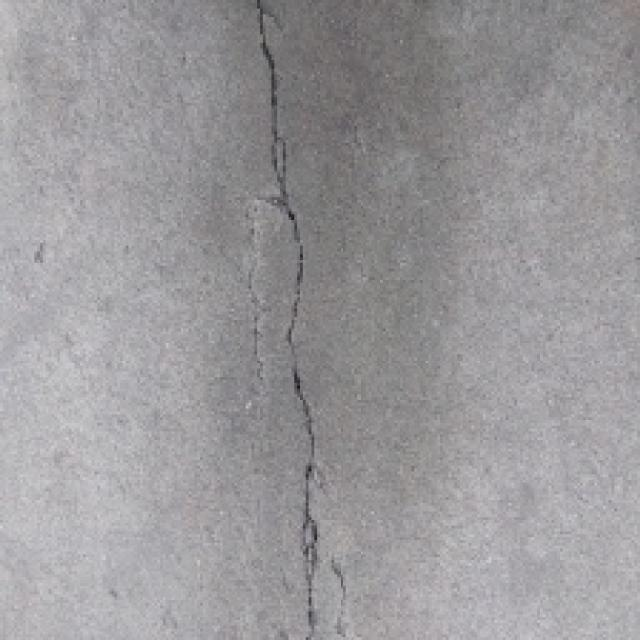crack: (208, 0, 382, 640)
